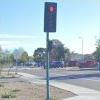traffic lights: (45, 2, 57, 33)
